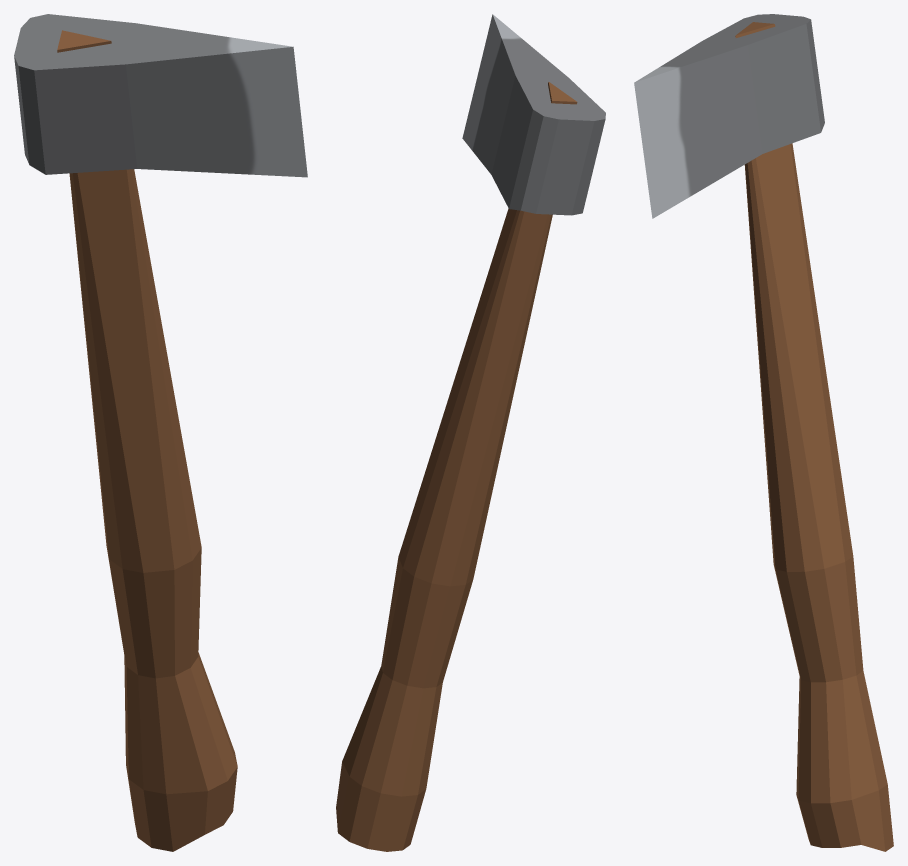
The model's file is hatchet.fbx.
The picture shows the model from 3 angles, left to right: view 1: azimuth 30°, elevation 25°; view 2: azimuth 150°, elevation 25°; view 3: azimuth 270°, elevation 25°; orthographic projection. The views are drawn at different scales.
Parts seen in each view (by area): view 1: Hatchet; view 2: Hatchet; view 3: Hatchet.
Part boxes in pixels (bbox=[...]): Hatchet: bbox=[14, 14, 307, 851]; Hatchet: bbox=[336, 14, 605, 851]; Hatchet: bbox=[634, 14, 893, 851].
Bounding box in the file's own units: 59.64 × 18.36 × 18.27.
Materials: 2 (2 with a texture image).
